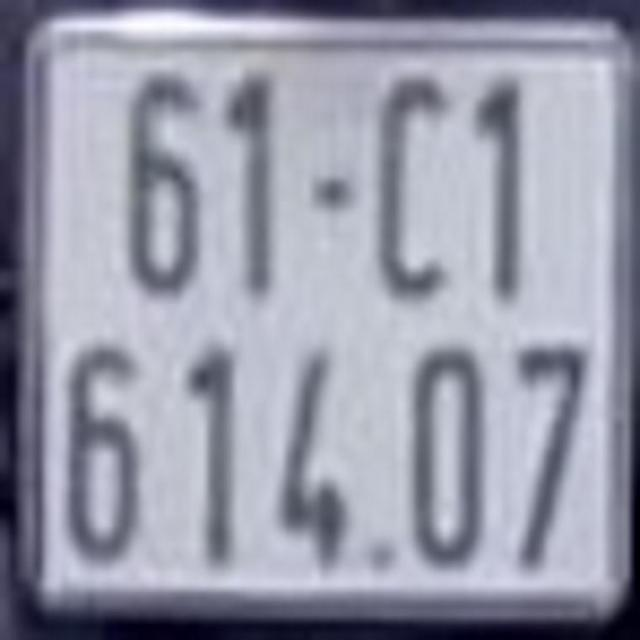0: (408, 343, 487, 562)
1: (180, 336, 234, 578), (225, 62, 274, 304), (476, 68, 526, 302)
4: (279, 351, 347, 566)
6: (62, 343, 141, 554), (131, 70, 202, 300)
7: (515, 340, 589, 580)
C: (380, 74, 452, 297)
